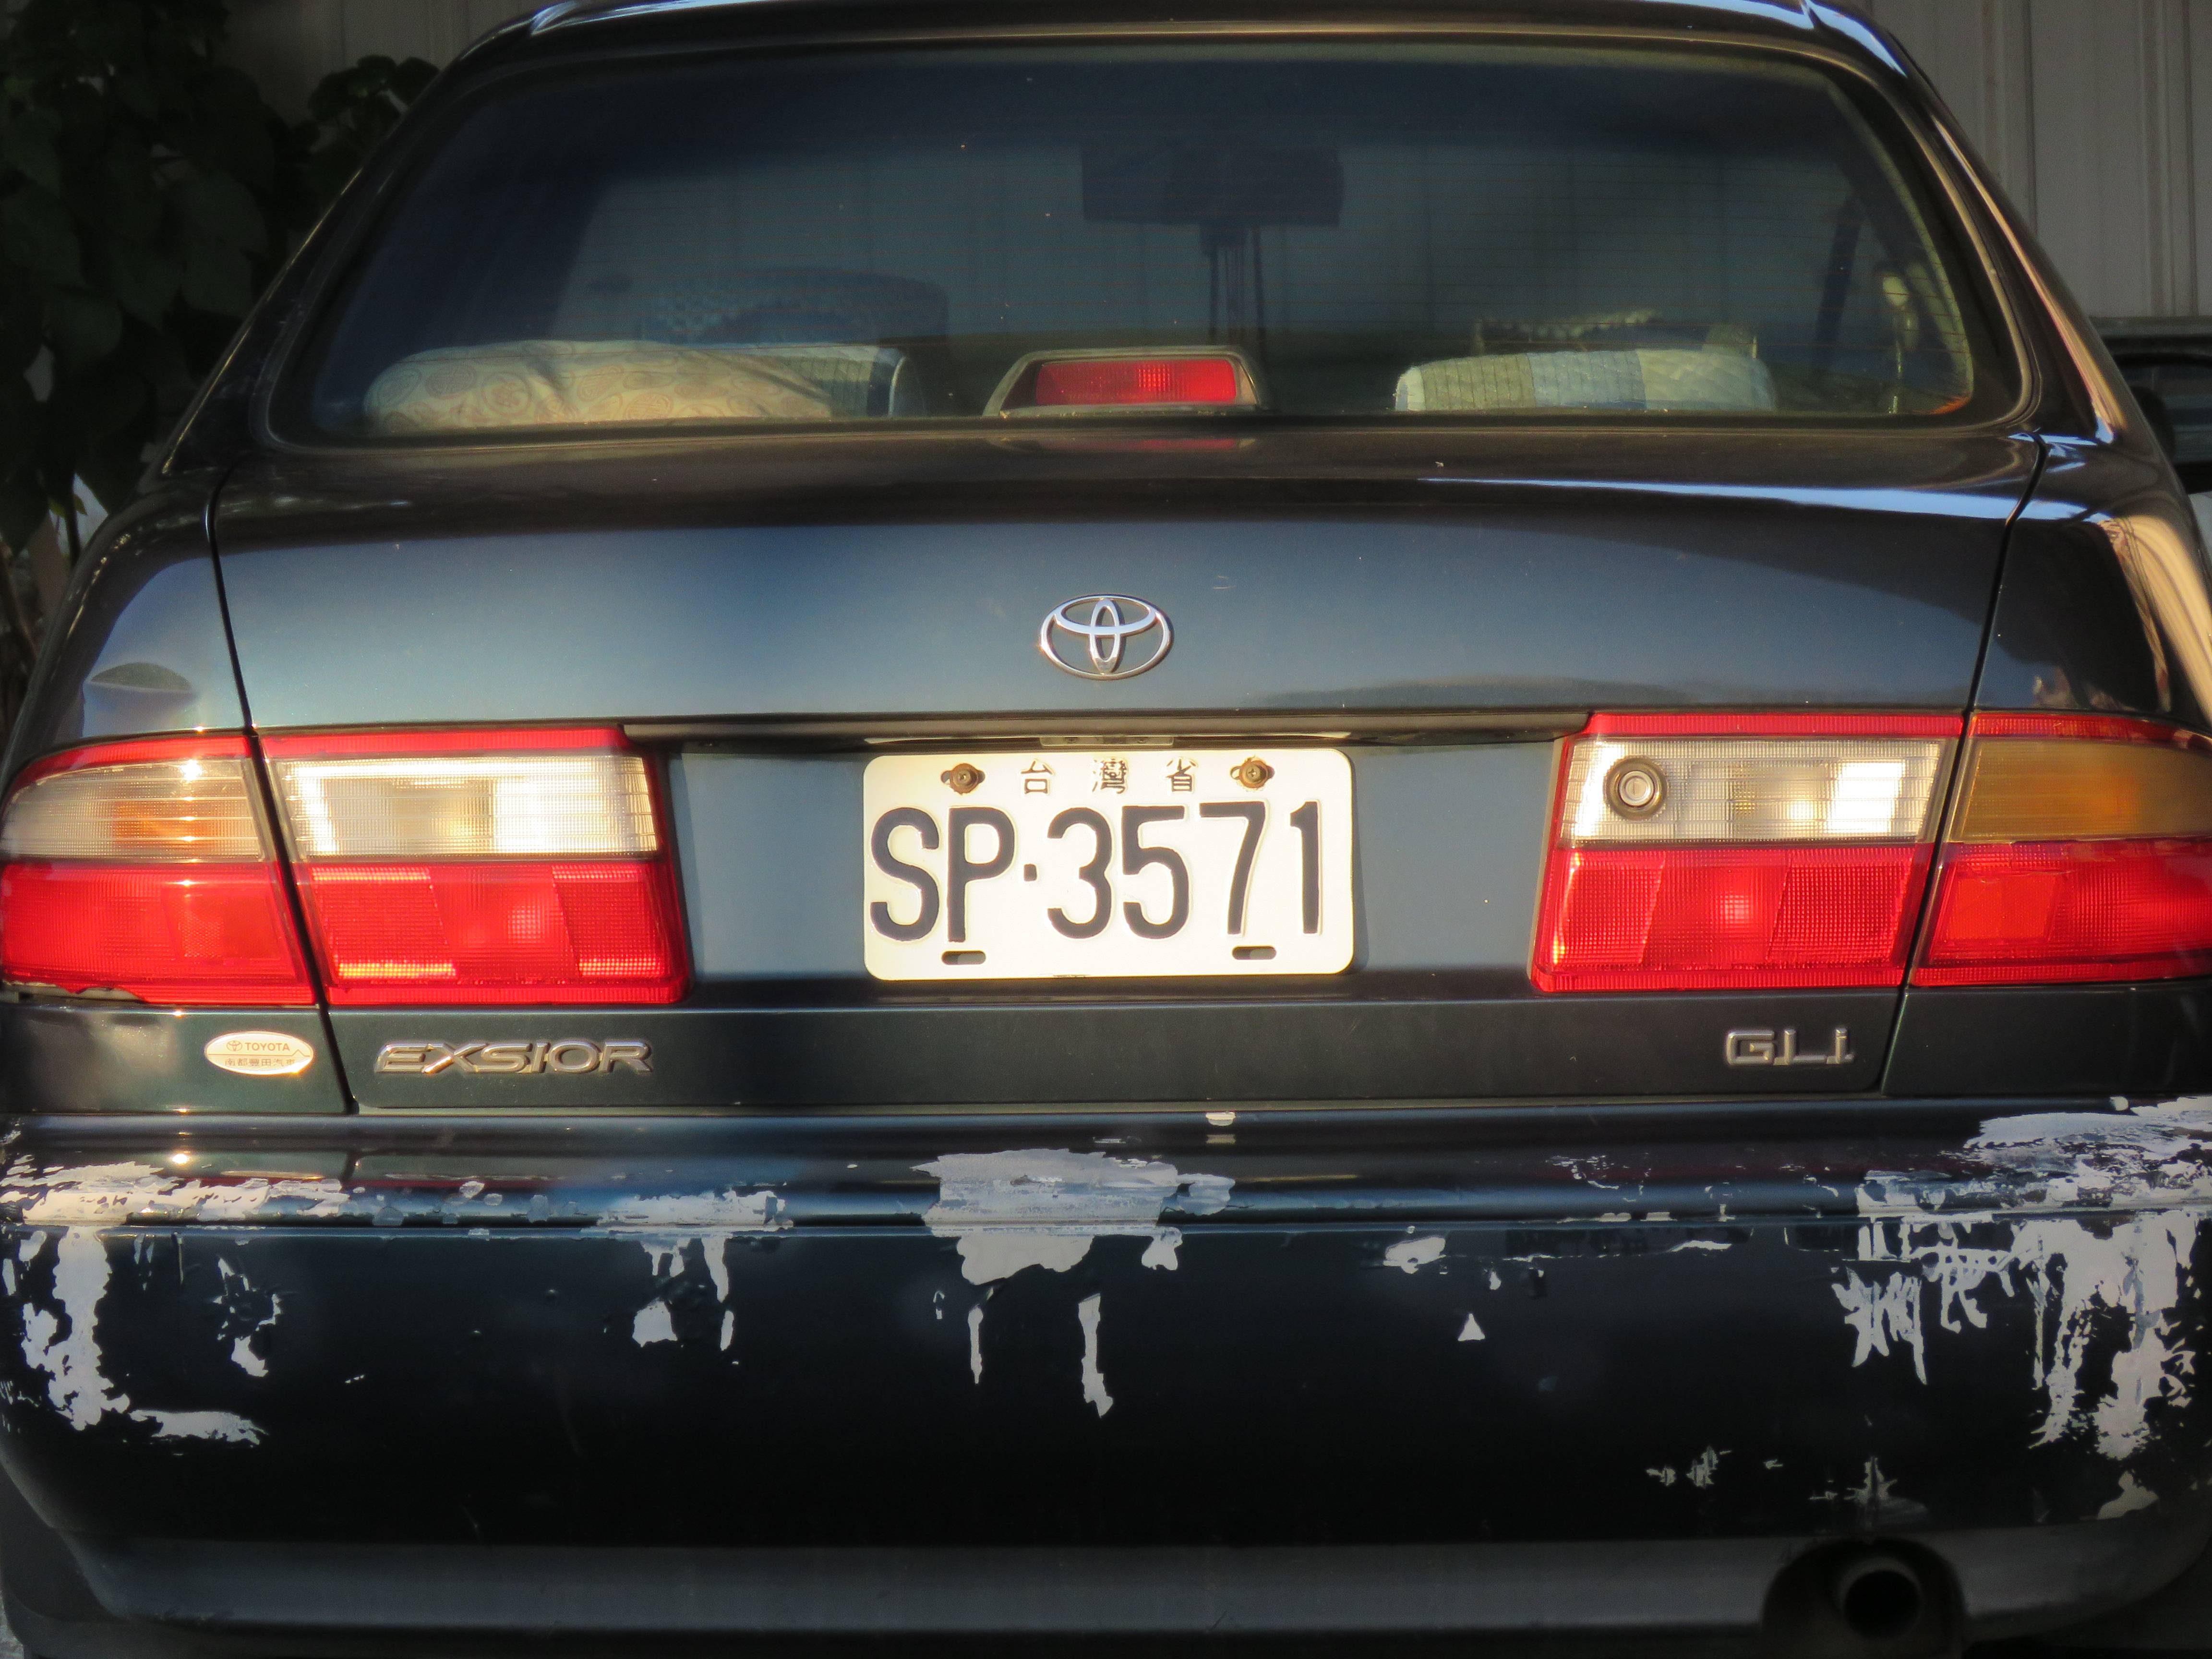car: (30, 0, 2191, 1649)
car_card: (845, 734, 1372, 993)
